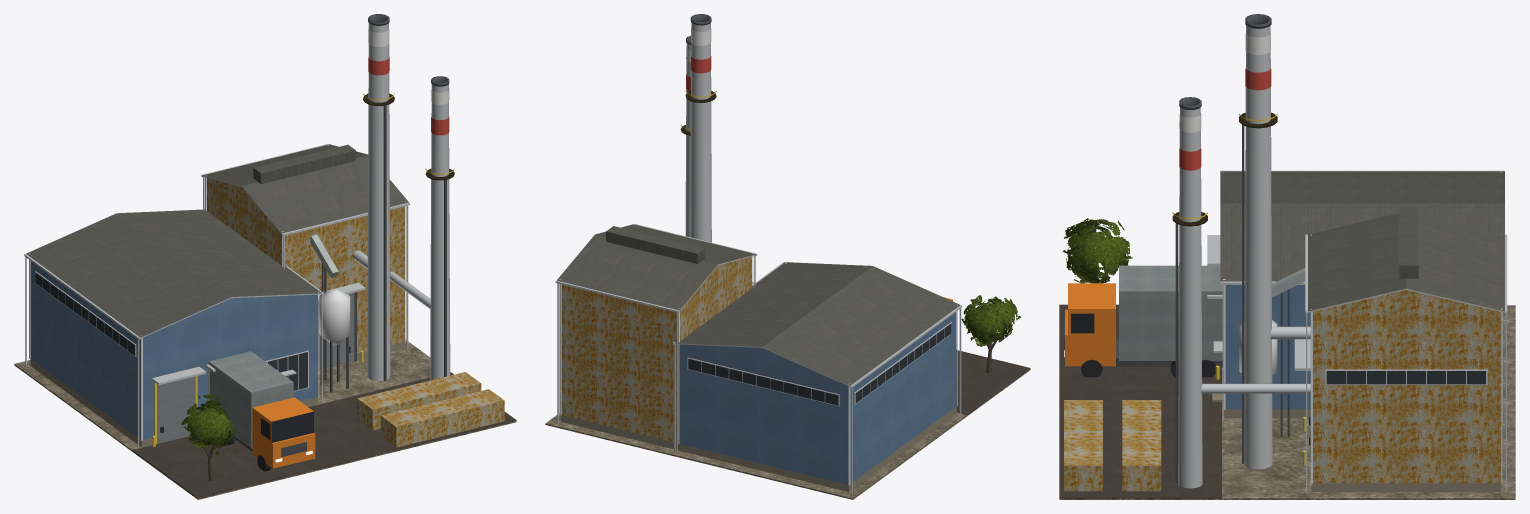
Rendered from factory_steel.glb.
3 renders of one model, left to right at view 1: azimuth 30°, elevation 25°; view 2: azimuth 150°, elevation 25°; view 3: azimuth 270°, elevation 25°, orthographic. The views are drawn at different scales.
Parts seen in each view (by area): view 1: factory_steel_body, factory_steel_foliage; view 2: factory_steel_body, factory_steel_foliage; view 3: factory_steel_body, factory_steel_foliage.
Boxes of the visible parts, left/top/right/bottom form: factory_steel_body: left=14, top=14, right=516, bottom=499; factory_steel_foliage: left=181, top=394, right=234, bottom=454; factory_steel_body: left=545, top=14, right=1030, bottom=499; factory_steel_foliage: left=961, top=295, right=1021, bottom=346; factory_steel_body: left=1059, top=14, right=1515, bottom=499; factory_steel_foliage: left=1062, top=218, right=1132, bottom=283.
Bounding box in the file's own units: 0.94 × 1.01 × 0.94.
30 materials, 12 textured.
